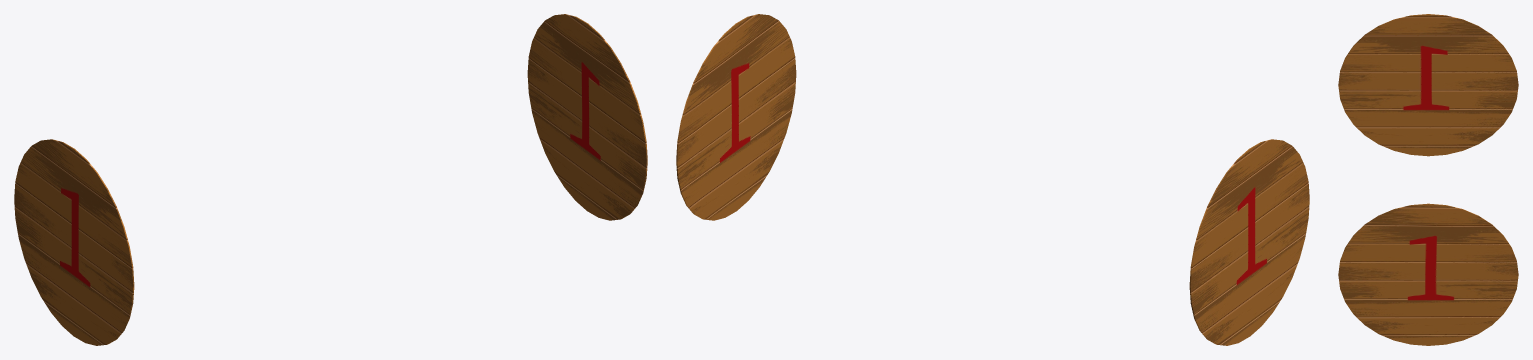
Rendered from BarcoCostado.fbx.
3 renders of one model, left to right at view 1: azimuth 30°, elevation 25°; view 2: azimuth 150°, elevation 25°; view 3: azimuth 270°, elevation 25°, orthographic. The views are drawn at different scales.
Visible parts, largest first — view 1: BarcoCostado; view 2: BarcoCostado; view 3: BarcoCostado.
Part boxes in pixels (x1,y1,x2,y2): BarcoCostado: (14, 14, 647, 345); BarcoCostado: (676, 14, 1309, 345); BarcoCostado: (1338, 14, 1518, 345).
Bounding box in the file's own units: 4474 × 1556 × 1793.
1 material, 1 textured.
